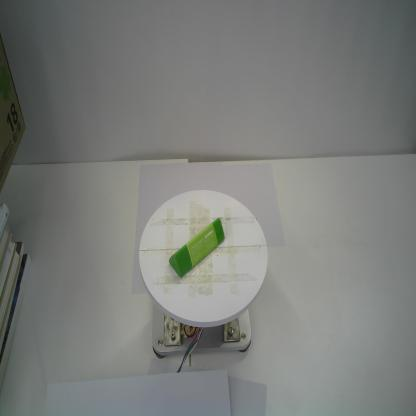Stationery: (166, 215, 227, 281)
